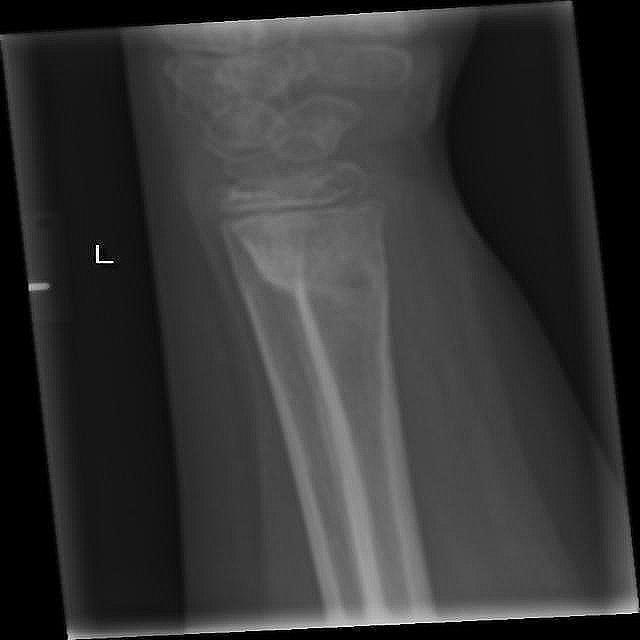bone: (250, 244, 396, 332), (228, 268, 318, 308)
